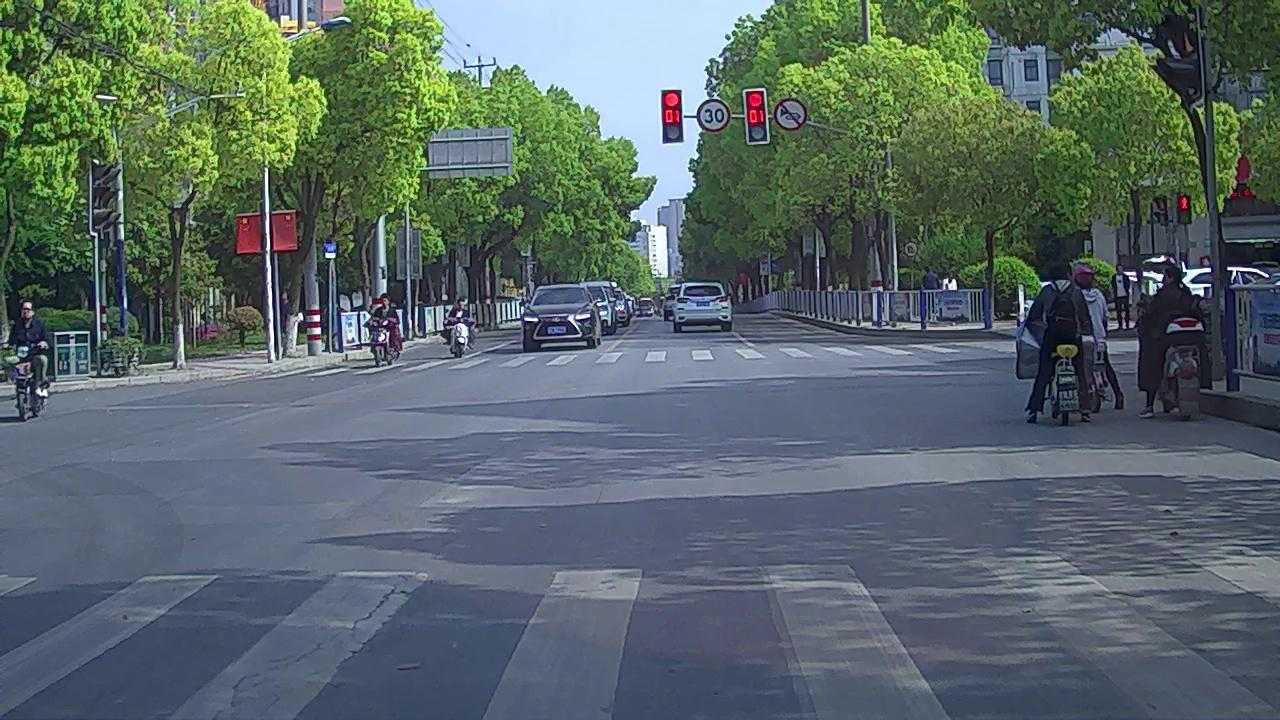traffic_light: (744, 90, 767, 145), (663, 92, 682, 142)
